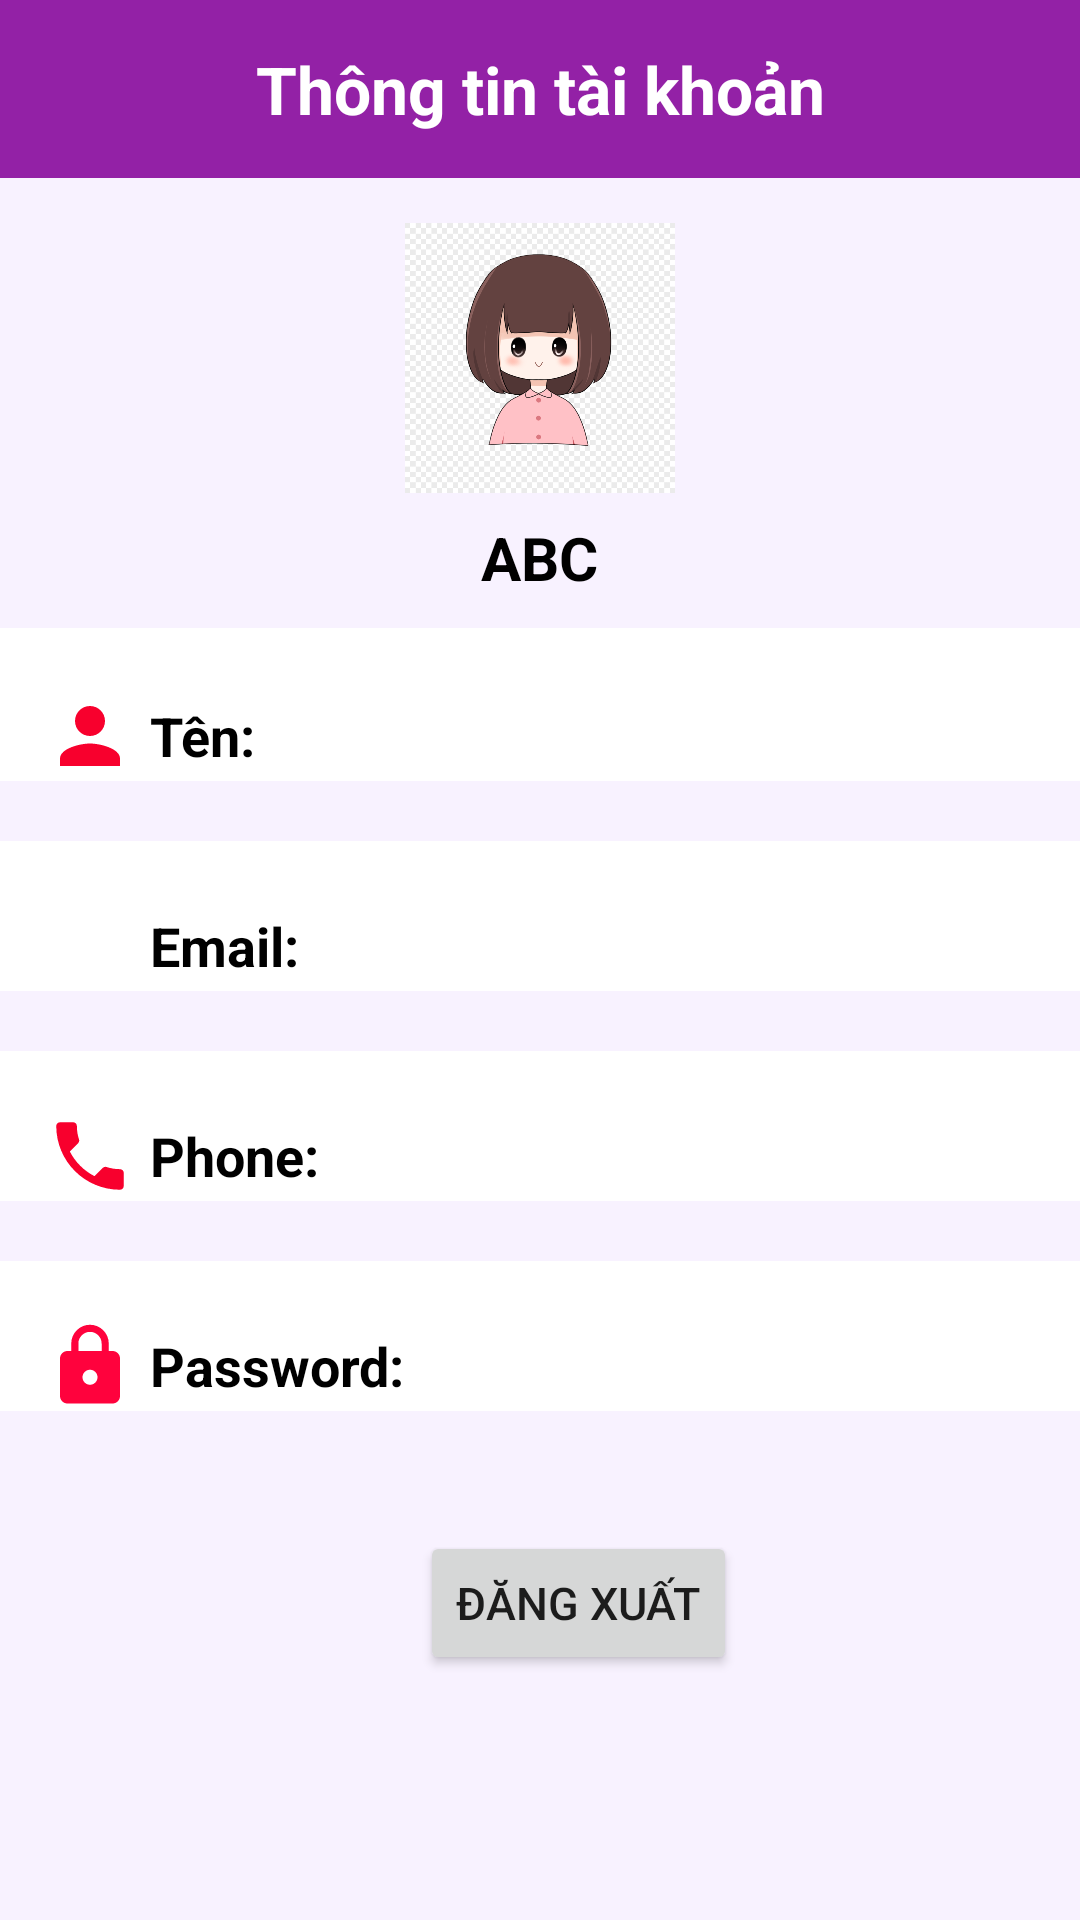

Screen size 1080*1920. Icon name, then its center in pixels as point (x, y):
lock: point (90, 1364)
person: point (90, 736)
